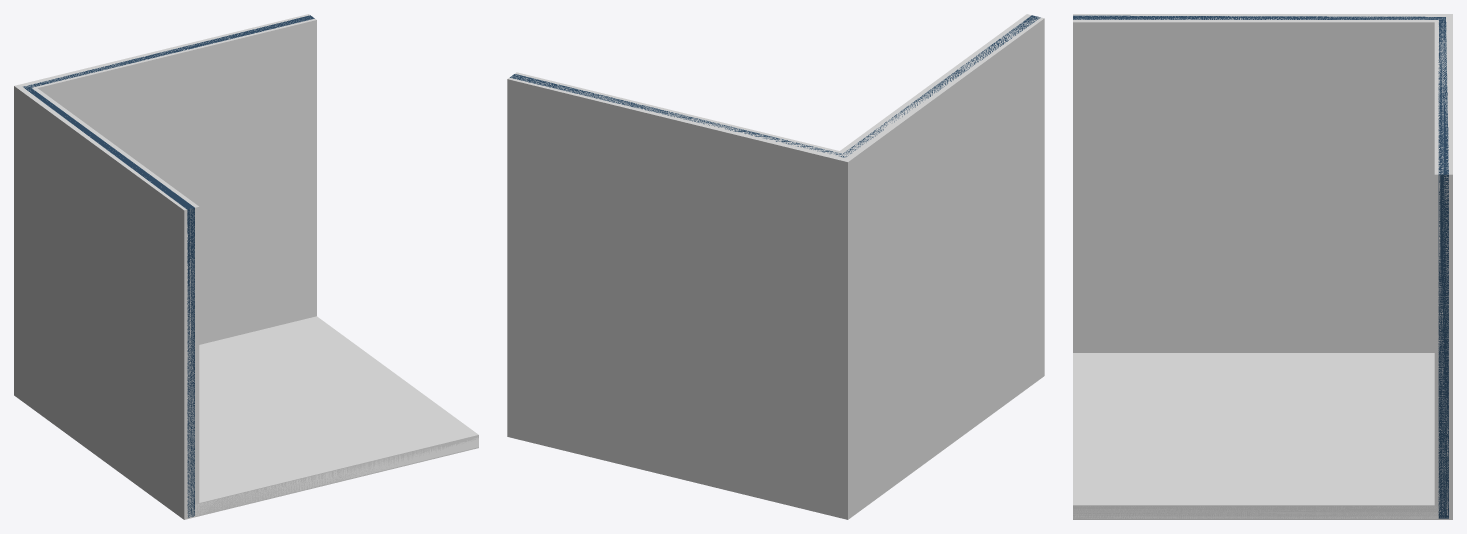
Rendered from room.glb.
3 views of the same model, side by side, from view 1: azimuth 30°, elevation 25°; view 2: azimuth 150°, elevation 25°; view 3: azimuth 270°, elevation 25° (orthographic). The views are drawn at different scales.
Parts seen in each view (by area): view 1: col_room, room_walls.002, room_floor.001; view 2: col_room, room_walls.002; view 3: col_room, room_walls.002, room_floor.001.
Part boxes in pixels (x1,y1,x2,y2): col_room: (14,14,478,519); room_walls.002: (23,15,314,517); room_floor.001: (195,437,478,515); col_room: (507,14,1044,519); room_walls.002: (510,15,1040,157); col_room: (1073,14,1452,519); room_walls.002: (1073,15,1448,518); room_floor.001: (1073,506,1438,518).
Size of the model in its own units: 3.12 by 3.13 by 3.12.
